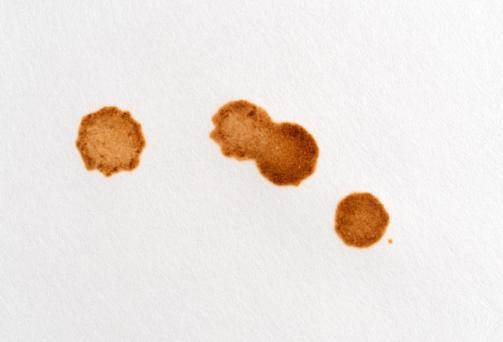stain: (206, 95, 327, 189), (74, 102, 149, 179), (333, 192, 394, 252)
